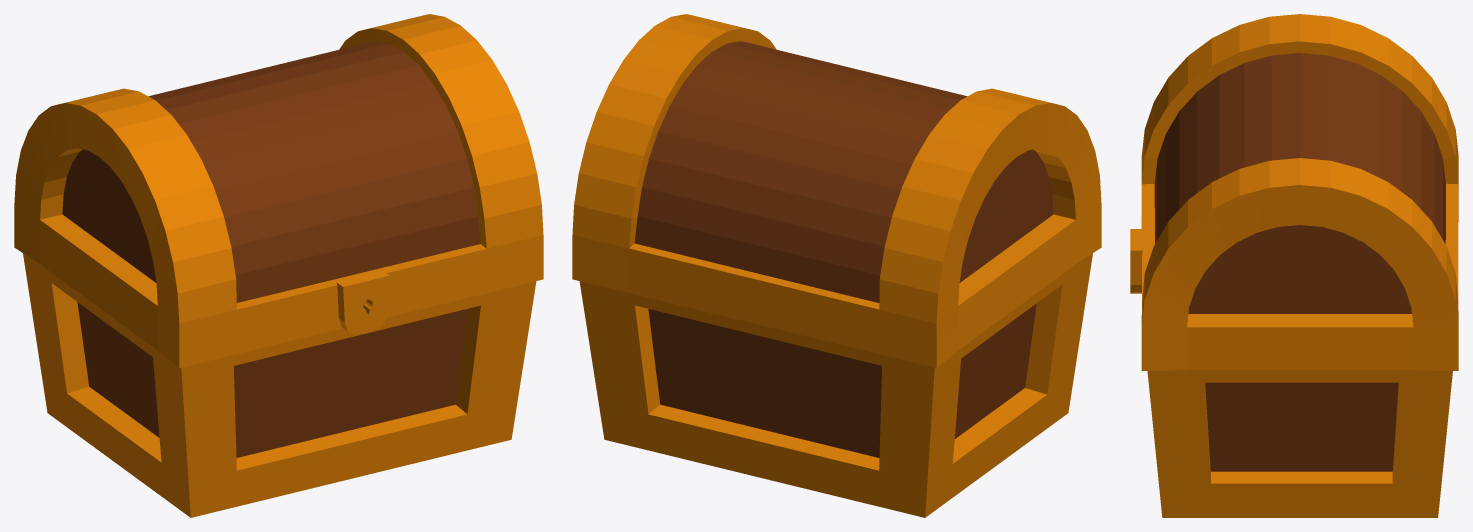
Rendered from chest.fbx.
The picture shows the model from 3 angles, left to right: view 1: azimuth 30°, elevation 25°; view 2: azimuth 150°, elevation 25°; view 3: azimuth 270°, elevation 25°; orthographic projection. The views are drawn at different scales.
Visible parts, largest first — view 1: Cube; view 2: Cube; view 3: Cube.
Part boxes in pixels (box(x1,y1,x2,y2)): Cube: box(14, 14, 543, 517); Cube: box(572, 14, 1101, 517); Cube: box(1130, 14, 1458, 517).
Bounding box in the file's own units: 190 × 177 × 154.
